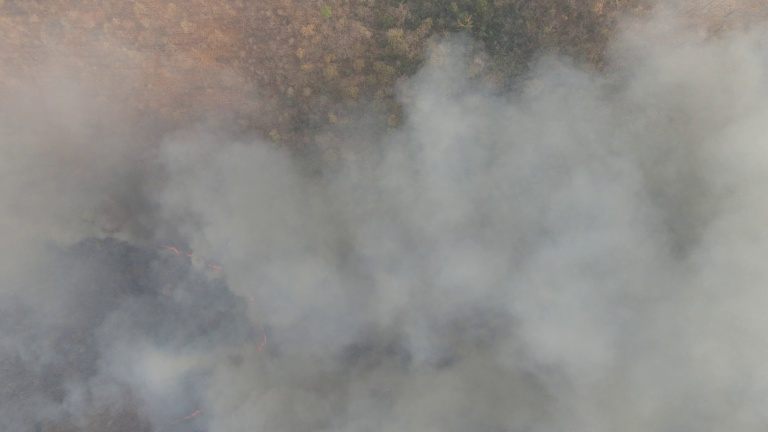fire: (137, 235, 237, 286), (152, 400, 222, 432), (243, 296, 273, 364)
smoke: (172, 43, 768, 422)
